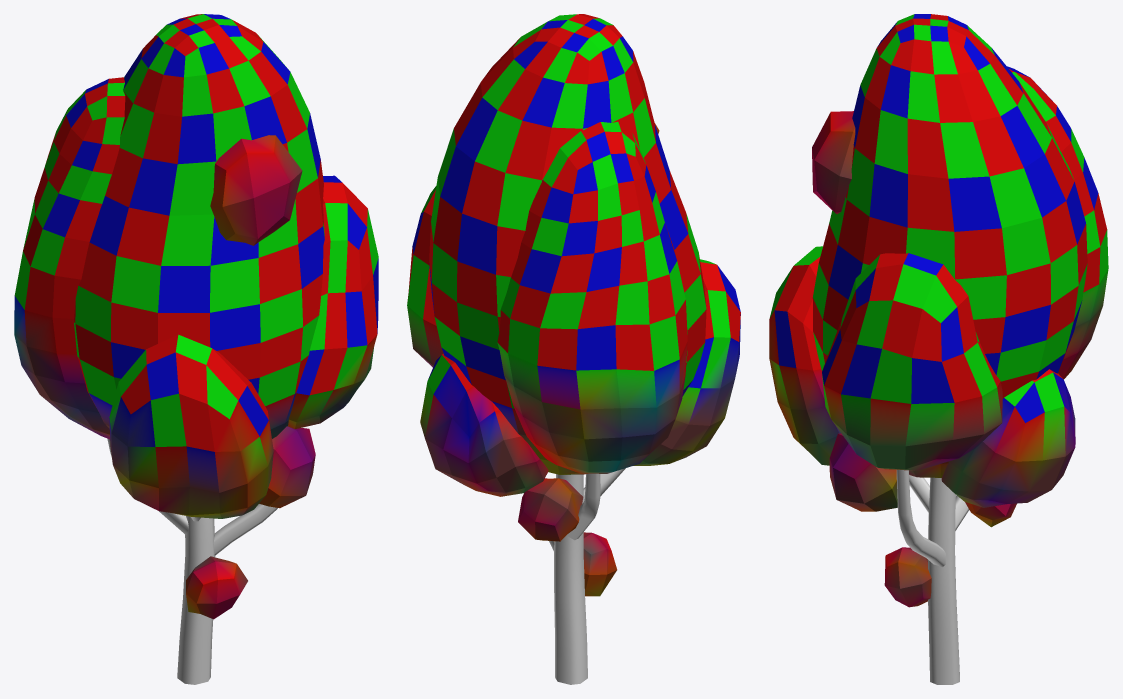
Rendered from Tree_B_04.fbx.
3 renders of one model, left to right at view 1: azimuth 30°, elevation 25°; view 2: azimuth 150°, elevation 25°; view 3: azimuth 270°, elevation 25°, orthographic.
Parts seen in each view (by area): view 1: Tree_B_04_Leaves, Tree_B_04_Trunk; view 2: Tree_B_04_Leaves, Tree_B_04_Trunk; view 3: Tree_B_04_Leaves, Tree_B_04_Trunk.
Part boxes in pixels (x1,y1,x2,y2): Tree_B_04_Leaves: [14, 14, 378, 619]; Tree_B_04_Trunk: [107, 438, 277, 684]; Tree_B_04_Leaves: [407, 14, 740, 596]; Tree_B_04_Trunk: [549, 468, 625, 684]; Tree_B_04_Leaves: [769, 14, 1108, 607]; Tree_B_04_Trunk: [896, 470, 969, 684].
Bounding box in the file's own units: 2.61 × 5.43 × 2.53.
